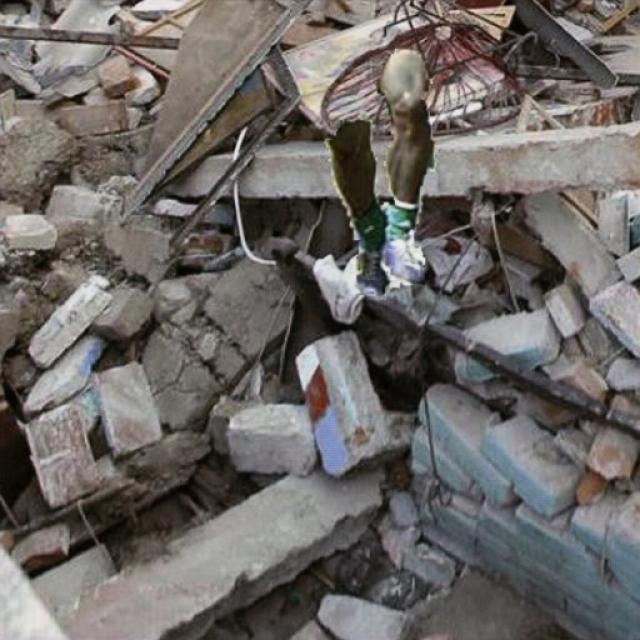Person in Rubble: (324, 49, 435, 295)
